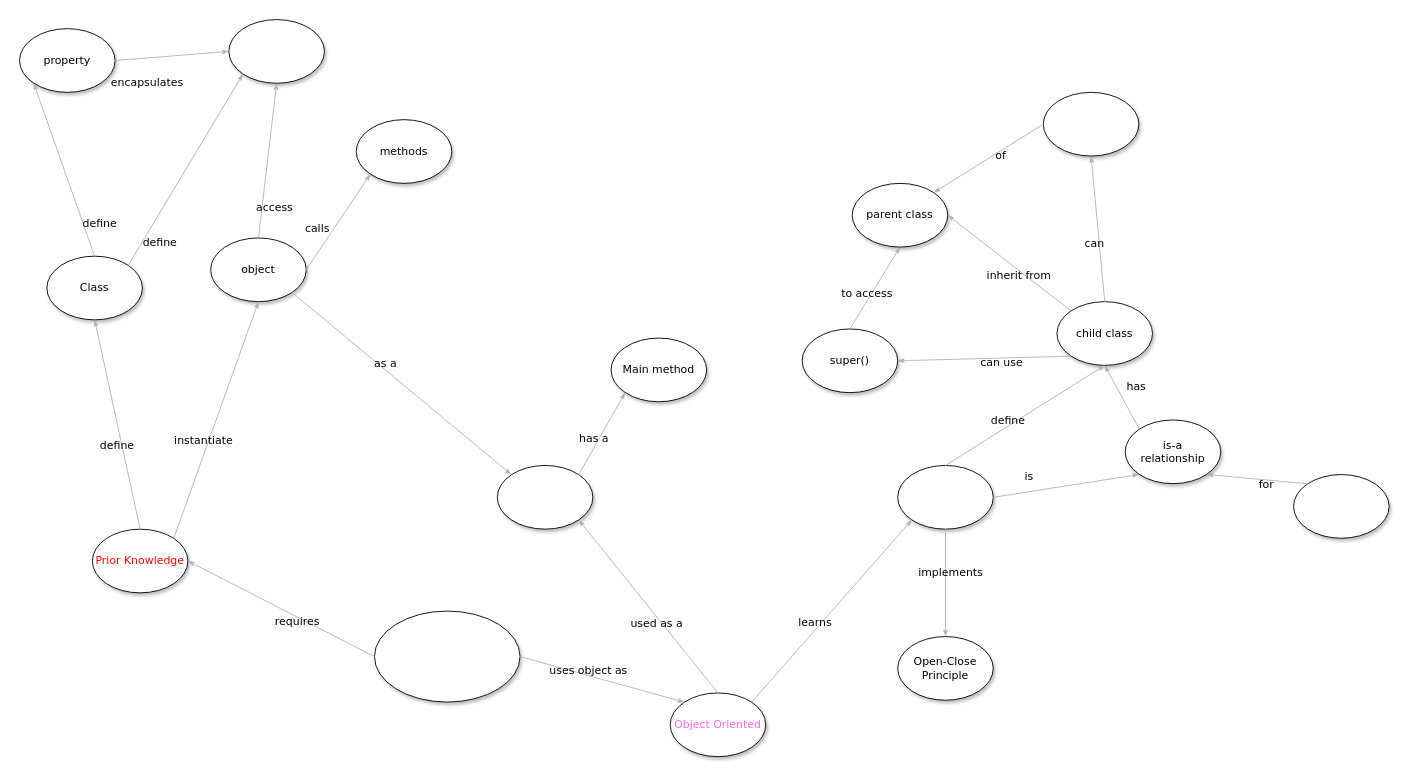
Some shapes in this 1411 by 779 pixel diagram are drawn without their labels. The shapes that lost their labels are listed below. From the top down, each one's centre as x and y in pixels, then its label:
At pixel 277 52: "attributes".
At pixel 1091 125: "override methods".
At pixel 545 498: "Computation".
At pixel 946 498: "Inheritance".
At pixel 1342 507: "UML Diagram".
At pixel 448 657: "Week 5 OOP as Computation and Inheritance".
